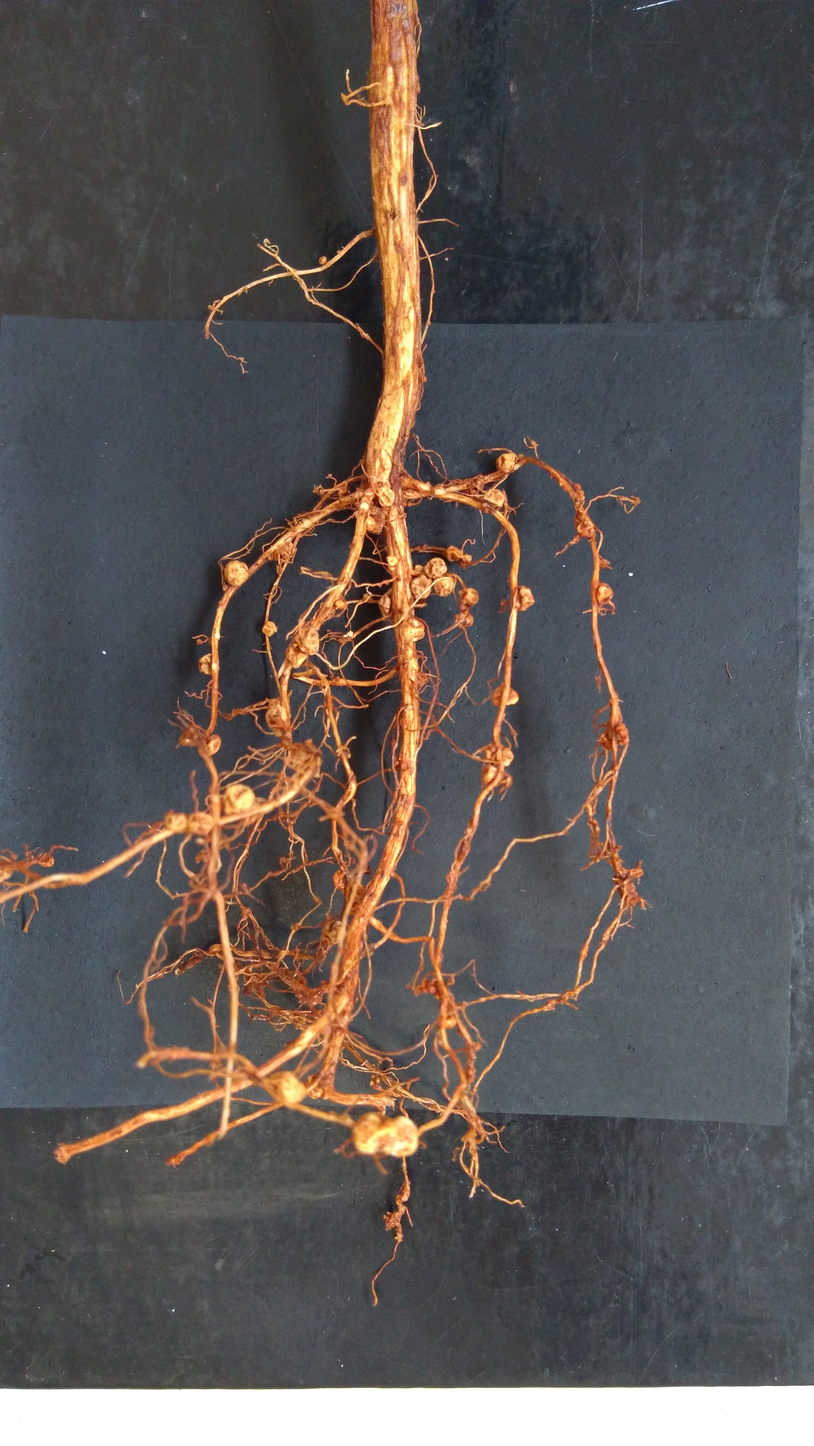nodule: (370, 1115, 419, 1158), (266, 1066, 309, 1106), (353, 1113, 383, 1157), (221, 782, 258, 815), (262, 696, 289, 738), (293, 625, 321, 657), (489, 682, 522, 709), (482, 742, 514, 767), (222, 558, 250, 586), (187, 809, 216, 836), (162, 807, 189, 836), (365, 503, 388, 536), (399, 617, 427, 642), (512, 583, 536, 612), (431, 575, 457, 600), (409, 573, 433, 600), (304, 1071, 325, 1101), (574, 511, 597, 538), (283, 646, 309, 669), (422, 555, 448, 578), (494, 451, 517, 475), (591, 582, 614, 605), (482, 487, 506, 509), (375, 484, 397, 508), (178, 724, 201, 746), (345, 878, 366, 902), (204, 733, 223, 757), (376, 594, 394, 619), (198, 652, 215, 677), (458, 587, 480, 606), (480, 763, 498, 784), (598, 727, 614, 750), (444, 545, 464, 563), (437, 1013, 459, 1028), (261, 620, 279, 638), (454, 611, 474, 627), (332, 868, 345, 889), (572, 482, 586, 501), (363, 515, 377, 532), (385, 553, 399, 566), (334, 598, 347, 610), (317, 253, 328, 267), (619, 736, 629, 746), (362, 592, 373, 601), (414, 563, 425, 572), (618, 728, 629, 737), (617, 721, 627, 730), (196, 638, 205, 645), (371, 1070, 378, 1078), (373, 1076, 380, 1083), (369, 1080, 375, 1086)
